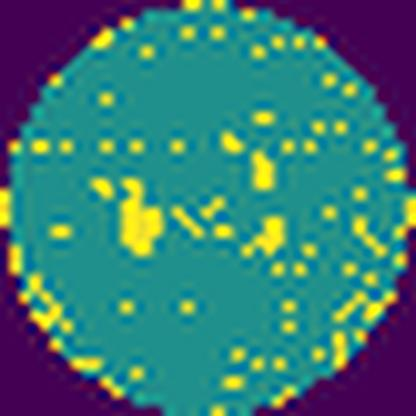Loc: (112, 176, 165, 258), (245, 214, 290, 255), (252, 150, 276, 194)
